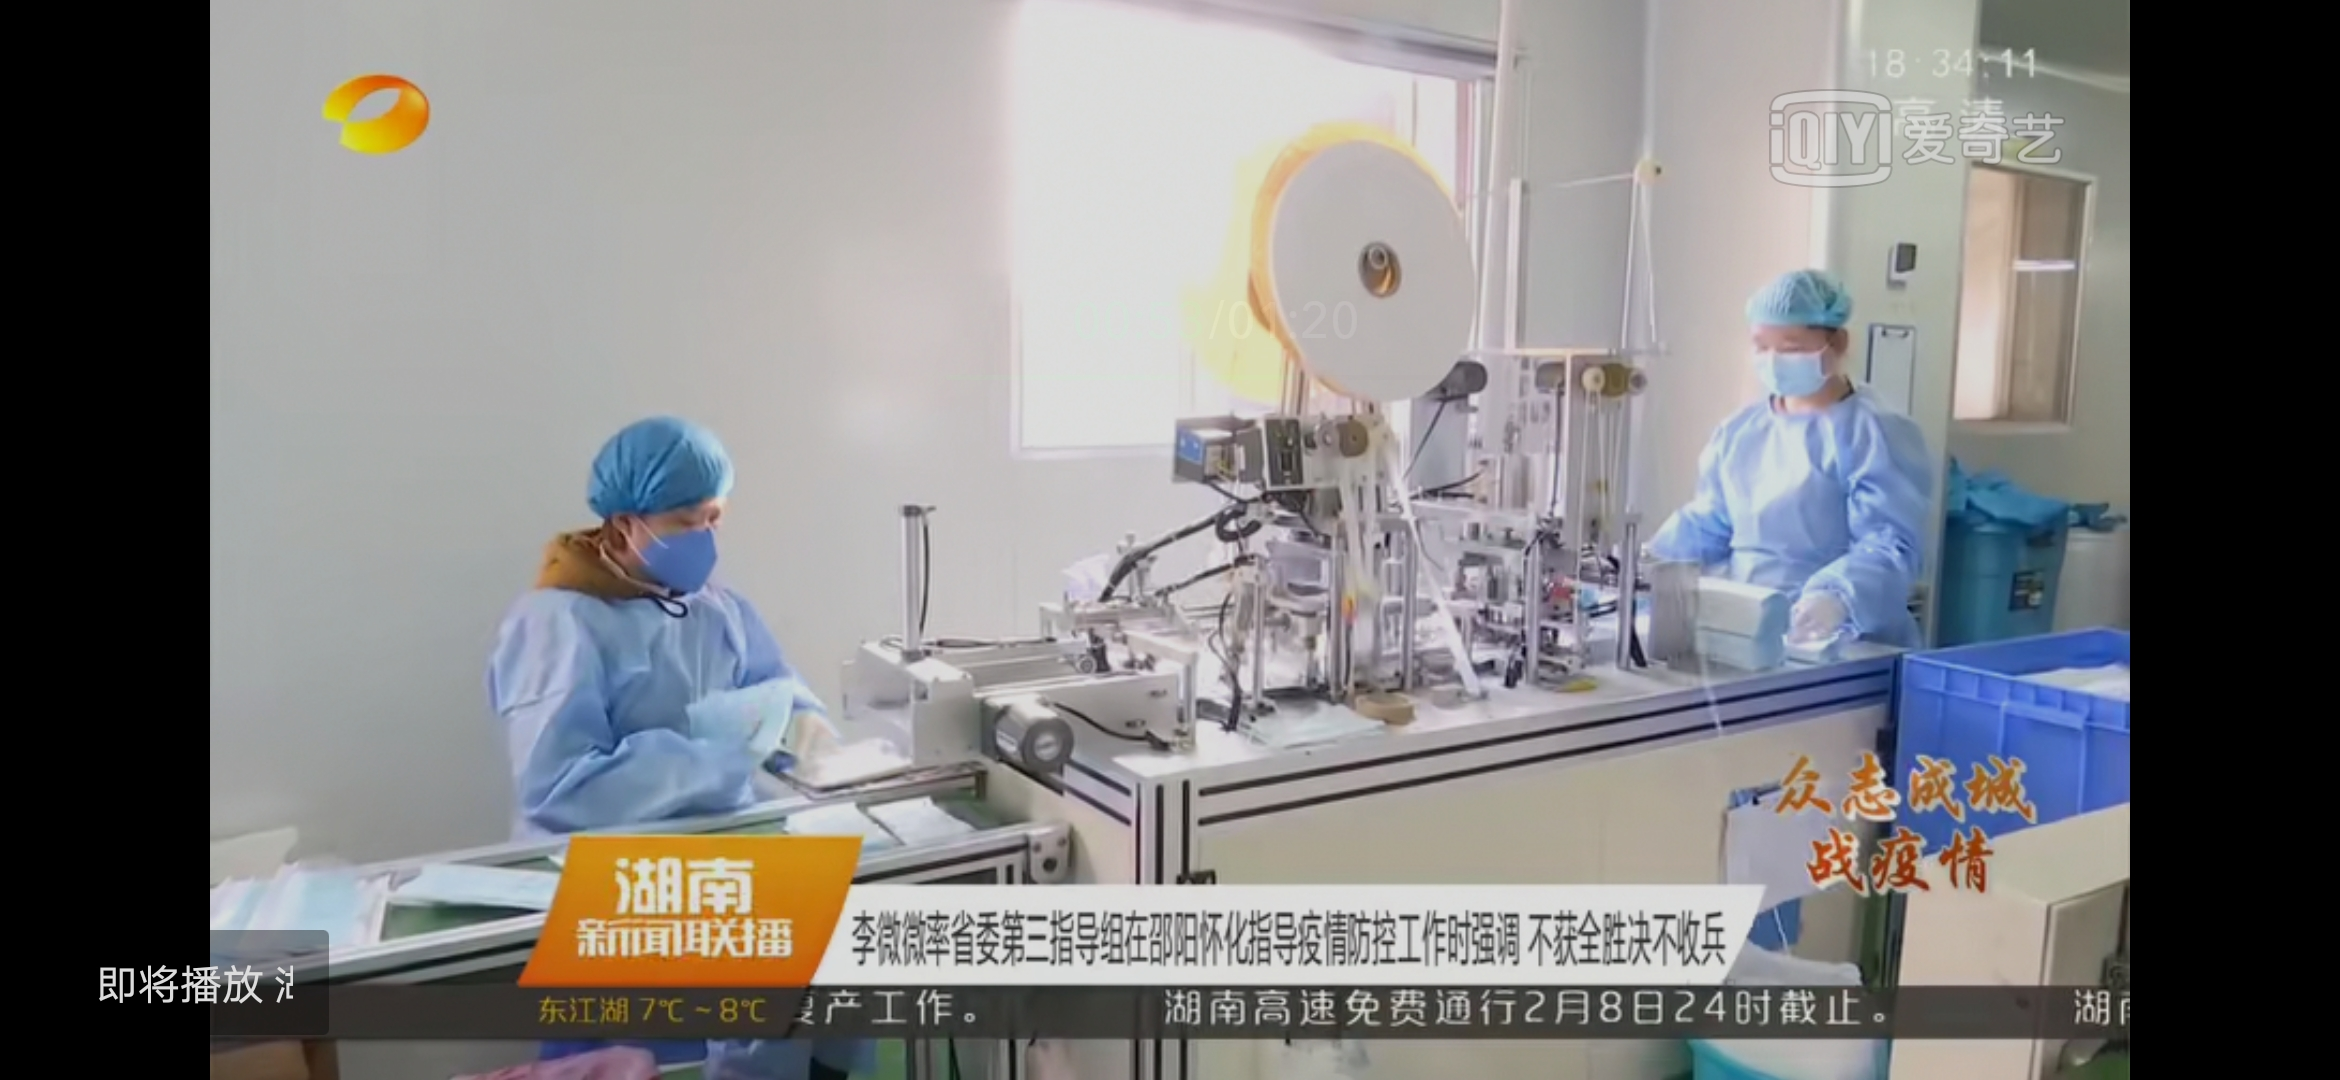correctlyWear: (606, 485, 722, 594), (1754, 310, 1851, 407)
